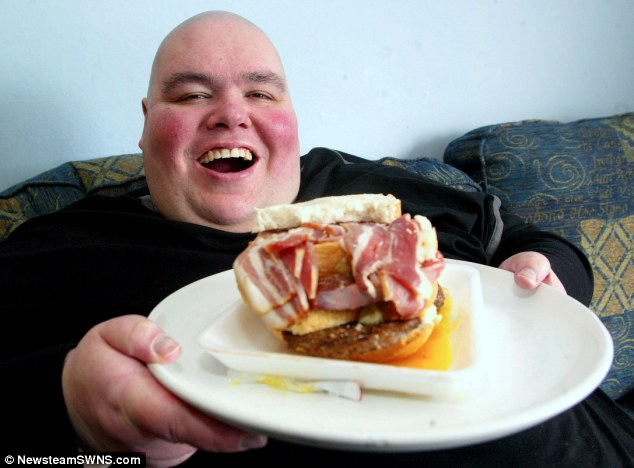bacon: (250, 213, 437, 323)
